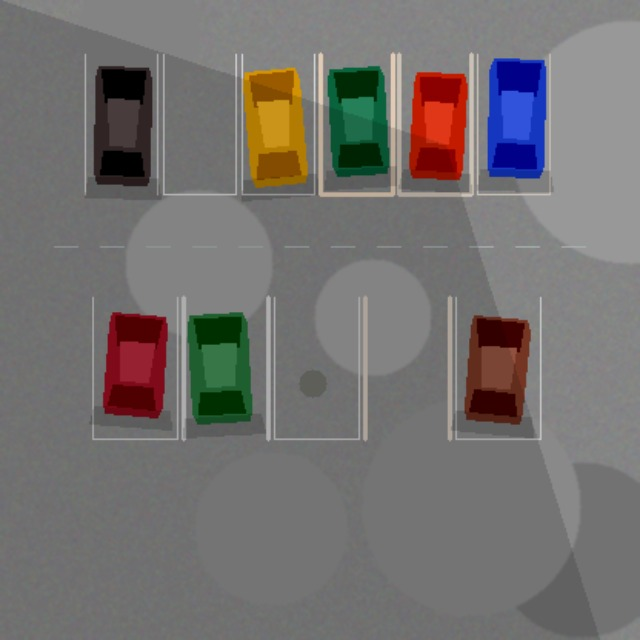space-empty: (274, 297, 358, 438), (365, 297, 449, 438), (163, 54, 235, 194)
space-occupied: (92, 297, 177, 438), (183, 297, 268, 438), (455, 297, 540, 438), (398, 54, 471, 194), (85, 54, 157, 194), (242, 54, 314, 194), (320, 54, 392, 194), (477, 54, 549, 194)
